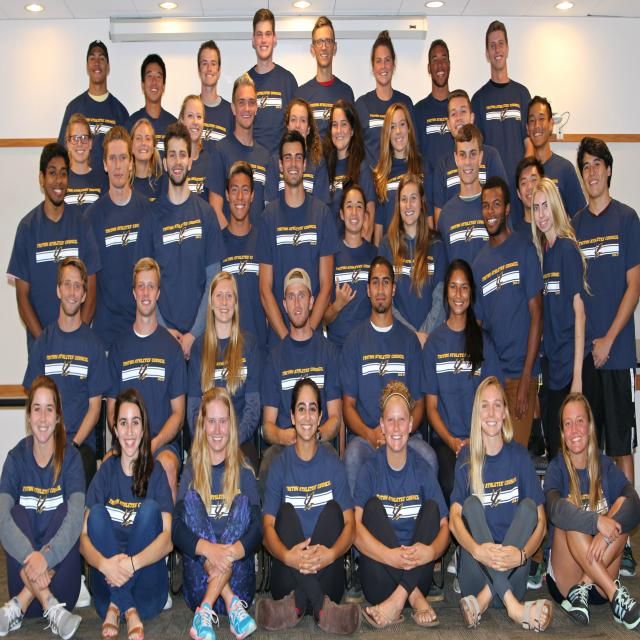body: (332, 252, 448, 610), (563, 133, 640, 578), (20, 254, 103, 608), (448, 373, 555, 632), (422, 256, 506, 576), (262, 376, 358, 633), (78, 386, 175, 640), (352, 380, 450, 628), (169, 382, 261, 640), (542, 390, 640, 630), (0, 373, 86, 640), (134, 120, 222, 371), (104, 256, 186, 520), (5, 142, 101, 364), (471, 176, 545, 454), (261, 268, 342, 504), (256, 129, 334, 355), (529, 175, 588, 467), (84, 126, 157, 354), (186, 270, 259, 475), (470, 20, 535, 231), (438, 124, 513, 285), (203, 72, 273, 235), (377, 171, 441, 349), (433, 89, 510, 232), (55, 38, 132, 168), (322, 184, 379, 356), (220, 159, 268, 356), (372, 101, 435, 249), (240, 6, 300, 159), (354, 30, 414, 183), (525, 94, 588, 223), (293, 15, 355, 146), (263, 97, 332, 210), (322, 97, 375, 244), (185, 39, 238, 154), (129, 53, 178, 173), (413, 38, 456, 168), (162, 93, 211, 204), (62, 110, 107, 214), (127, 118, 167, 199), (512, 154, 546, 238)
